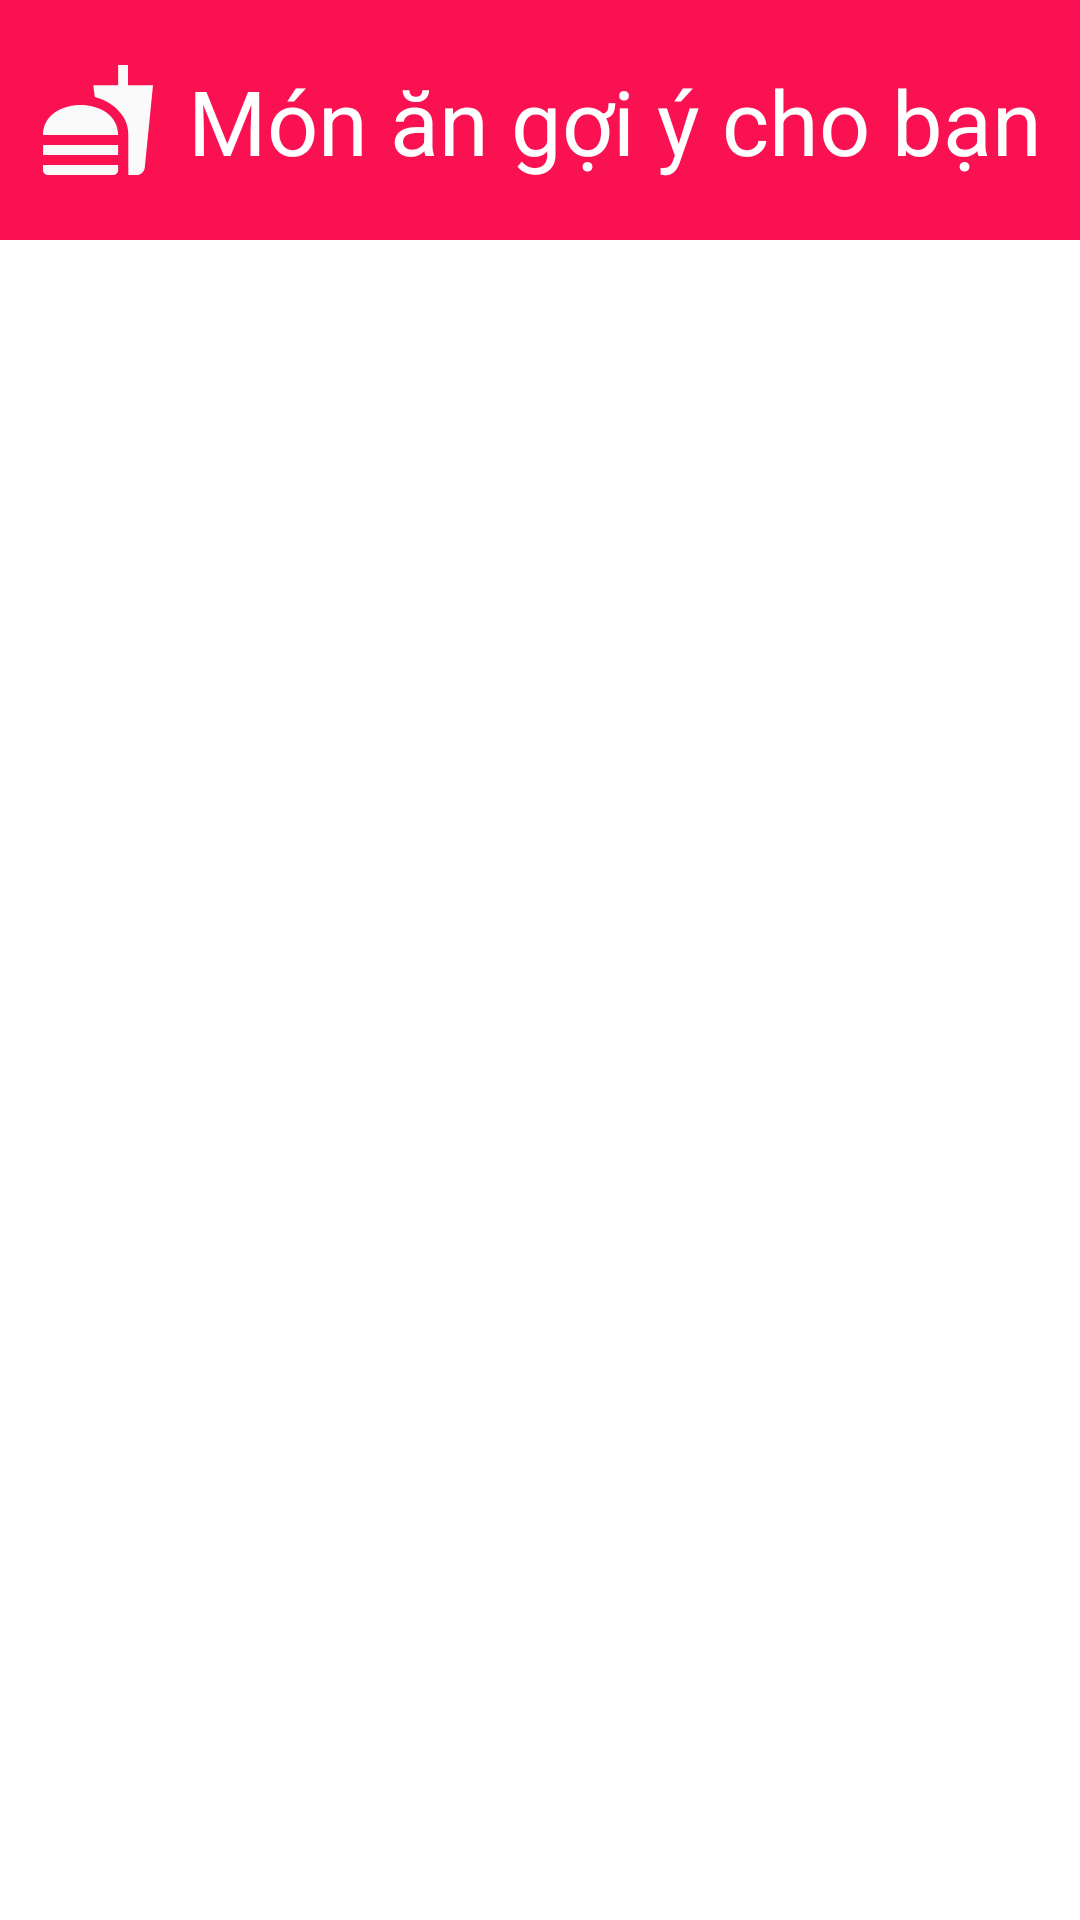

Icons on this 1080 x 1920 Android screen, each with its box as (x1, y1, x2, y2):
fastfood: (43, 65, 153, 175)
